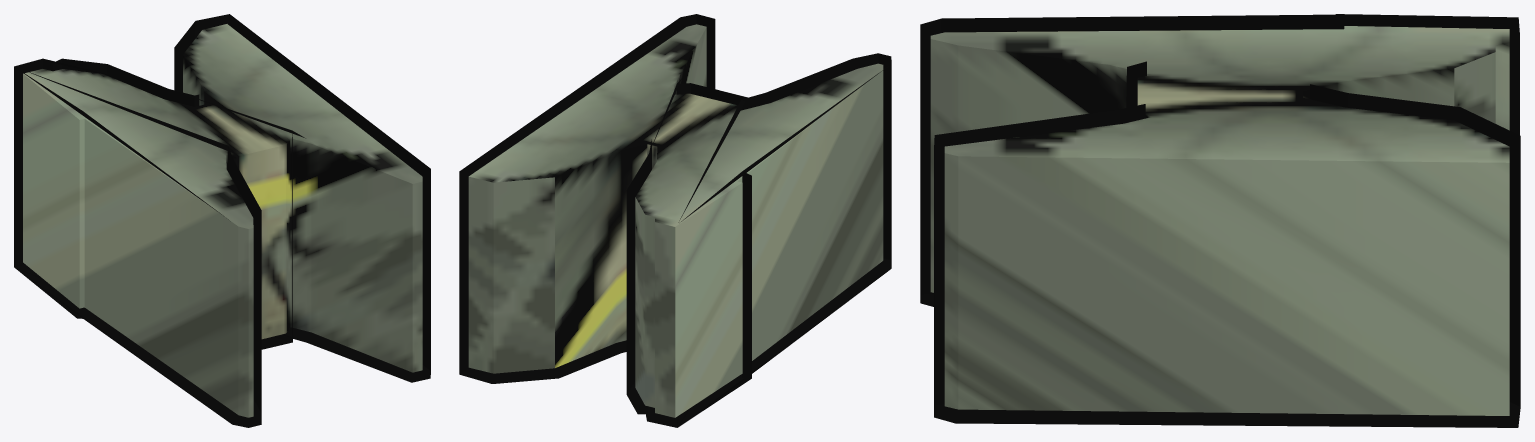
Rendered from Building_PsychicEmanator_Things_Building_Special_PsychicEmanator.glb.
3 views of the same model, side by side, from view 1: azimuth 30°, elevation 25°; view 2: azimuth 150°, elevation 25°; view 3: azimuth 270°, elevation 25° (orthographic). The views are drawn at different scales.
Parts seen in each view (by area): view 1: Body, Outline; view 2: Body, Outline; view 3: Body, Outline.
Part boxes in pixels (left/top/right/bottom): Body: left=23, top=24, right=422, bottom=417; Outline: left=14, top=14, right=430, bottom=427; Body: left=468, top=24, right=883, bottom=417; Outline: left=459, top=14, right=891, bottom=427; Body: left=930, top=26, right=1509, bottom=415; Outline: left=920, top=14, right=1520, bottom=427.
Bounding box in the file's own units: 0.3465 × 0.3129 × 0.6079.
2 materials, 1 textured.
